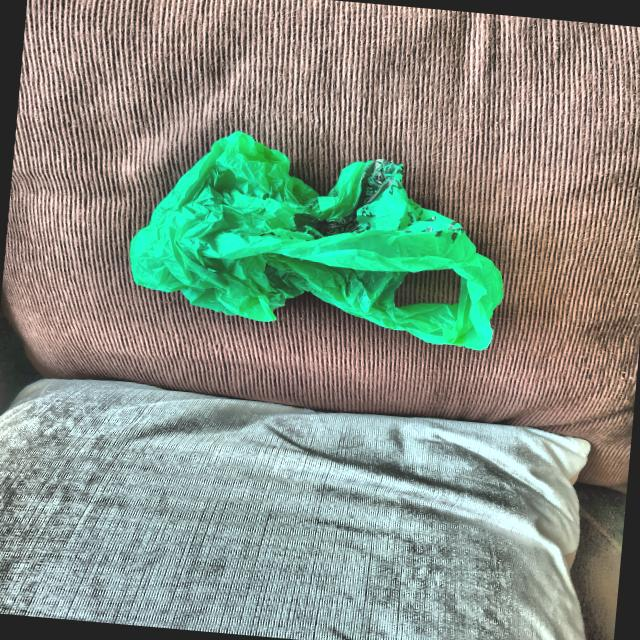plastic bag: (125, 125, 518, 352)
